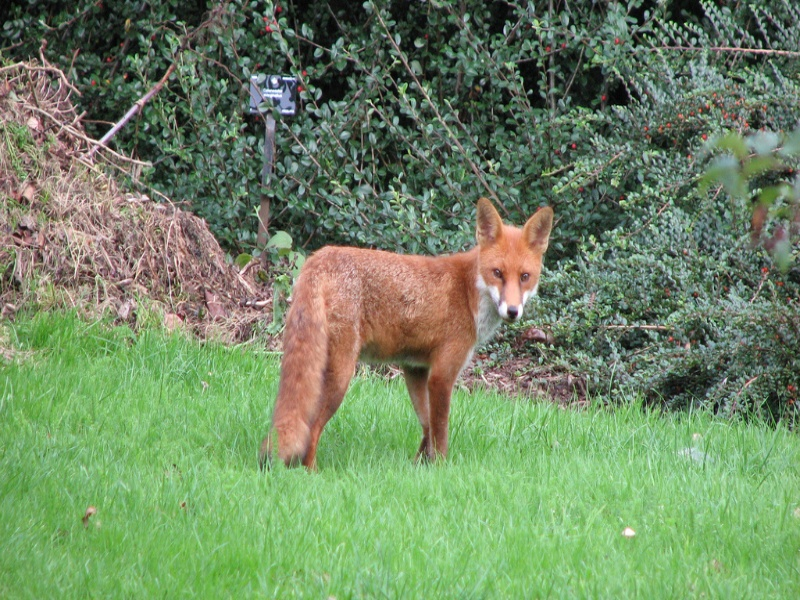fox: (255, 196, 559, 478)
